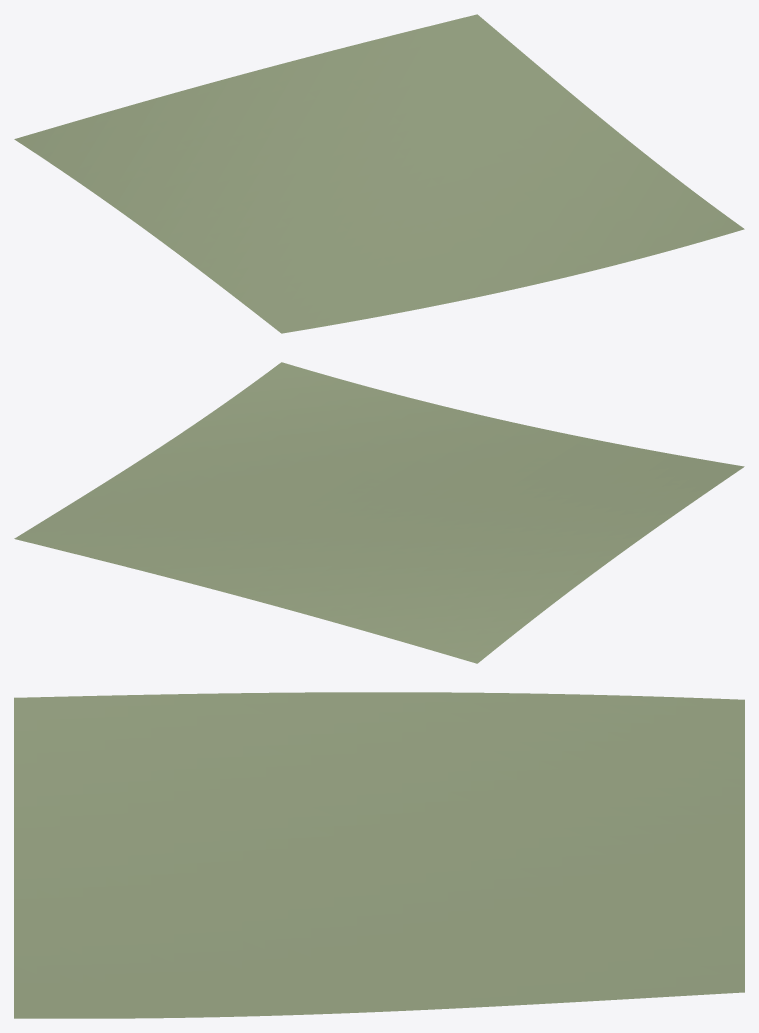
The model's file is alpine-14-0.glb.
3 renders of one model, top to bottom at view 1: azimuth 30°, elevation 25°; view 2: azimuth 150°, elevation 25°; view 3: azimuth 270°, elevation 25°, orthographic. The views are drawn at different scales.
Visible parts, largest first — view 1: alpine-14-0; view 2: alpine-14-0; view 3: alpine-14-0.
Boxes of the visible parts, x1,y1,x2,y2 form: alpine-14-0: [14, 14, 744, 333]; alpine-14-0: [14, 362, 744, 663]; alpine-14-0: [14, 692, 744, 1018].
Size of the model in its own units: 256 by 12.46 by 256.
